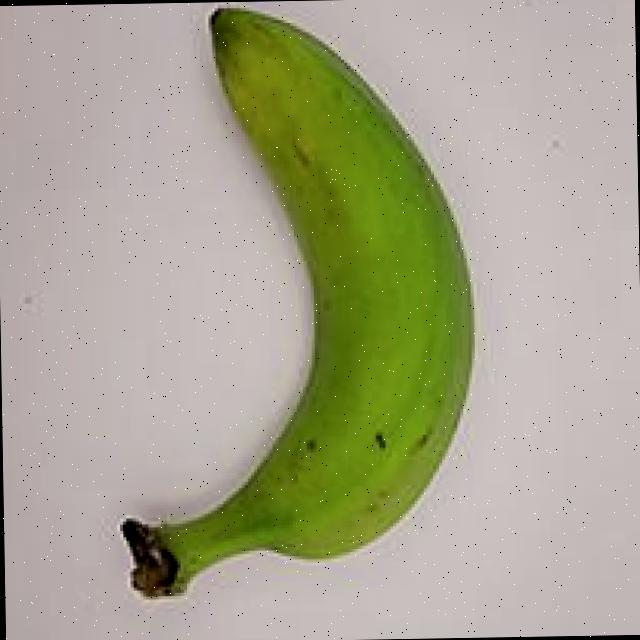Unripe: (64, 0, 501, 625)
